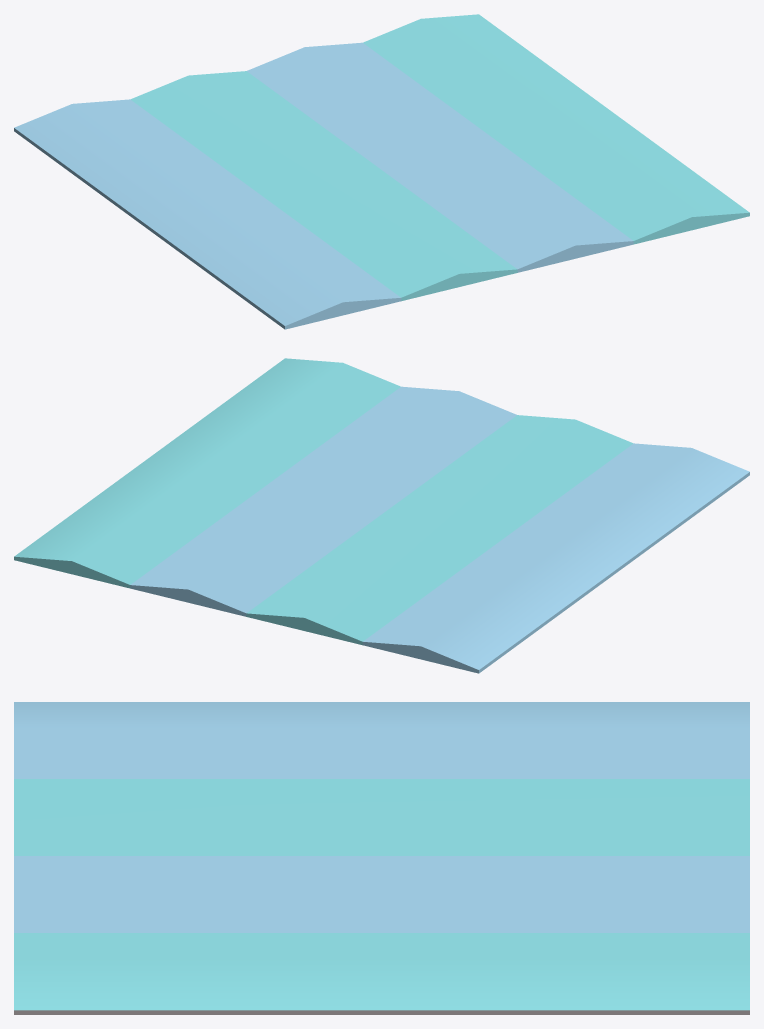
Rendered from carpet_004.glb.
3 renders of one model, top to bottom at view 1: azimuth 30°, elevation 25°; view 2: azimuth 150°, elevation 25°; view 3: azimuth 270°, elevation 25°, orthographic. The views are drawn at different scales.
Visible parts, largest first — view 1: carpet_004; view 2: carpet_004; view 3: carpet_004.
Part boxes in pixels (bbox=[...]): carpet_004: bbox=[14, 14, 749, 329]; carpet_004: bbox=[14, 358, 749, 673]; carpet_004: bbox=[14, 702, 749, 1014].
Size of the model in its own units: 0.6047 by 0.0164 by 0.6104.
Materials: 1 (1 with a texture image).
